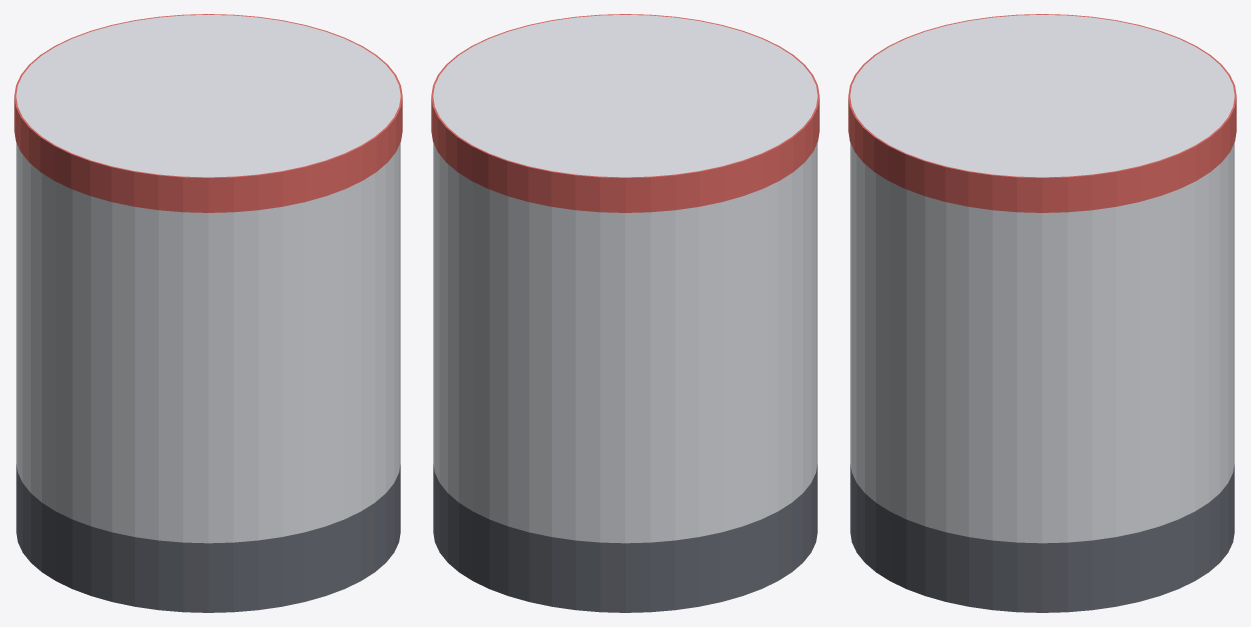
File: stage2_short.glb
3 renders of one model, left to right at view 1: azimuth 30°, elevation 25°; view 2: azimuth 150°, elevation 25°; view 3: azimuth 270°, elevation 25°, orthographic.
Visible parts, largest first — view 1: stage2_short_1, stage2_short_0, stage2_short_2; view 2: stage2_short_1, stage2_short_0, stage2_short_2; view 3: stage2_short_1, stage2_short_0, stage2_short_2.
Boxes of the visible parts, <box> form: stage2_short_1: <box>16,14,400,543</box>; stage2_short_0: <box>16,464,400,612</box>; stage2_short_2: <box>14,14,402,212</box>; stage2_short_1: <box>433,14,817,543</box>; stage2_short_0: <box>433,464,817,612</box>; stage2_short_2: <box>431,14,819,212</box>; stage2_short_1: <box>850,14,1234,543</box>; stage2_short_0: <box>850,464,1234,612</box>; stage2_short_2: <box>848,14,1236,212</box>.
Size of the model in its own units: 2.02 by 2.5 by 2.02.
